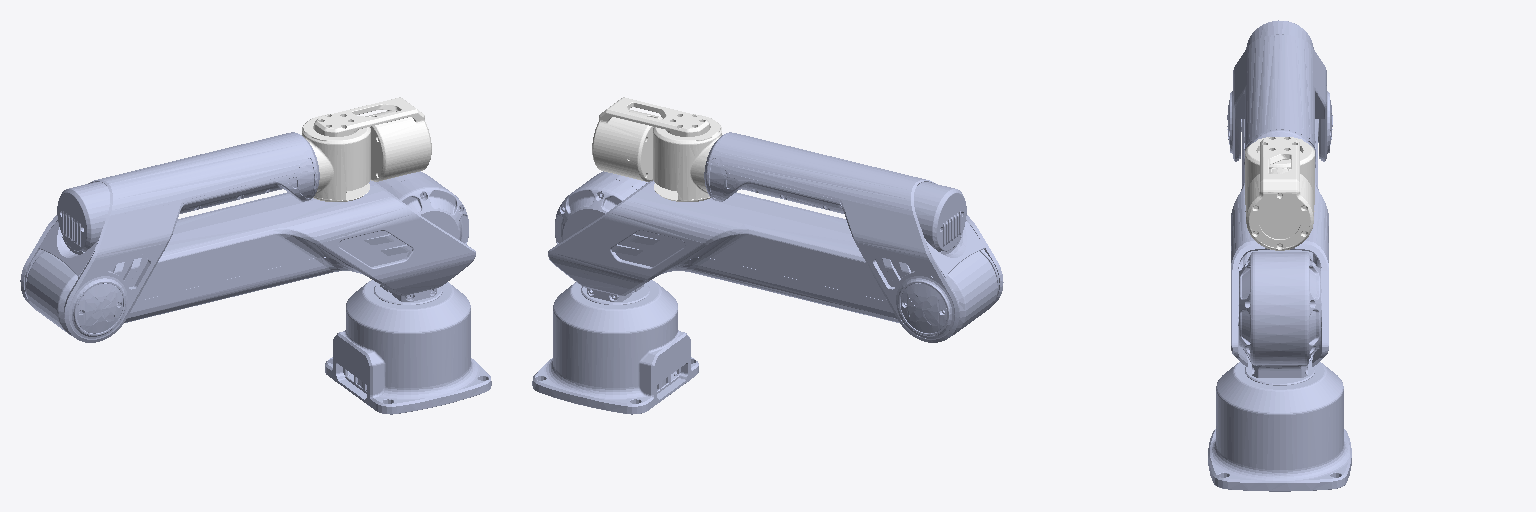
The robot description file, URDF, robot "A1_URDF_0607_0028":
<?xml version="1.0" encoding="utf-8"?>
<!-- This URDF was automatically created by SolidWorks to URDF Exporter! Originally created by [author] ([email redacted]) 
     Commit Version: 1.6.0-4-g7f85cfe  Build Version: 1.6.7995.38578
     For more information, please see http://wiki.ros.org/sw_urdf_exporter -->
<robot
  name="A1_URDF_0607_0028">
  <link
    name="base_link">
    <inertial>
      <origin
        xyz="-0.00056269 -4.1498E-06 0.038934"
        rpy="0 0 0" />
      <mass
        value="1.0" />
      <inertia
        ixx="0.0010597"
        ixy="1.6825E-07"
        ixz="1.9821E-05"
        iyy="0.0010647"
        iyz="1.9312E-07"
        izz="0.0011787" />
    </inertial>
    <visual>
      <origin
        xyz="0 0 0"
        rpy="0 0 0" />
      <geometry>
        <mesh
          filename="package://mobiman/urdf/A1/meshes/base_link.STL" />
      </geometry>
      <material
        name="">
        <color
          rgba="0.79216 0.81961 0.93333 1" />
      </material>
    </visual>
    <collision>
      <origin
        xyz="0 0 0"
        rpy="0 0 0" />
      <geometry>
        <mesh
          filename="package://mobiman/urdf/A1/meshes/base_link.STL" />
      </geometry>
    </collision>
  </link>
  <link
    name="arm_seg1">
    <inertial>
      <origin
        xyz="-1.4403E-06 -0.00074041 0.056573"
        rpy="0 0 0" />
      <mass
        value="1.391" />
      <inertia
        ixx="0.00058101"
        ixy="-7.5672E-09"
        ixz="-2.9207E-08"
        iyy="0.00070857"
        iyz="8.5639E-07"
        izz="0.00044583" />
    </inertial>
    <visual>
      <origin
        xyz="0 0 0"
        rpy="0 0 0" />
      <geometry>
        <mesh
          filename="package://mobiman/urdf/A1/meshes/arm_seg1.STL" />
      </geometry>
      <material
        name="">
        <color
          rgba="0.79216 0.81961 0.93333 1" />
      </material>
    </visual>
    <collision>
      <origin
        xyz="0 0 0"
        rpy="0 0 0" />
      <geometry>
        <mesh
          filename="package://mobiman/urdf/A1/meshes/arm_seg1.STL" />
      </geometry>
    </collision>
  </link>
  <joint
    name="arm_joint1"
    type="revolute">
    <origin
      xyz="-0.0011147 0 0.0892"
      rpy="0 0 3.1416" />
    <parent
      link="base_link" />
    <child
      link="arm_seg1" />
    <axis
      xyz="0 0 1" />
    <limit
      lower="-2.8798"
      upper="2.8798"
      effort="40"
      velocity="20.944" />
  </joint>
  <link
    name="arm_seg2">
    <inertial>
      <origin
        xyz="0.23622 0.016356 9.154E-05"
        rpy="0 0 0" />
      <mass
        value="1.3" />
      <inertia
        ixx="0.00060643"
        ixy="-0.00041827"
        ixz="0.00014951"
        iyy="0.0075939"
        iyz="8.093E-06"
        izz="0.0075715" />
    </inertial>
    <visual>
      <origin
        xyz="0 0 0"
        rpy="0 0 0" />
      <geometry>
        <mesh
          filename="package://mobiman/urdf/A1/meshes/arm_seg2.STL" />
      </geometry>
      <material
        name="">
        <color
          rgba="0.79216 0.81961 0.93333 1" />
      </material>
    </visual>
    <collision>
      <origin
        xyz="0 0 0"
        rpy="0 0 0" />
      <geometry>
        <mesh
          filename="package://mobiman/urdf/A1/meshes/arm_seg2.STL" />
      </geometry>
    </collision>
  </link>
  <joint
    name="arm_joint2"
    type="revolute">
    <origin
      xyz="0 -4E-05 0.0615"
      rpy="1.5708 0 0" />
    <parent
      link="arm_seg1" />
    <child
      link="arm_seg2" />
    <axis
      xyz="0 0 1" />
    <limit
      lower="0"
      upper="3.1415"
      effort="40"
      velocity="20.944" />
  </joint>
  <link
    name="arm_seg3">
    <inertial>
      <origin
        xyz="0.054443 0.045347 0.00042807"
        rpy="0 0 0" />
      <mass
        value="0.818" />
      <inertia
        ixx="0.0013904"
        ixy="-0.00022559"
        ixz="9.6874E-06"
        iyy="0.00059564"
        iyz="7.1658E-06"
        izz="0.0014962" />
    </inertial>
    <visual>
      <origin
        xyz="0 0 0"
        rpy="0 0 0" />
      <geometry>
        <mesh
          filename="package://mobiman/urdf/A1/meshes/arm_seg3.STL" />
      </geometry>
      <material
        name="">
        <color
          rgba="0.79216 0.81961 0.93333 1" />
      </material>
    </visual>
    <collision>
      <origin
        xyz="0 0 0"
        rpy="0 0 0" />
      <geometry>
        <mesh
          filename="package://mobiman/urdf/A1/meshes/arm_seg3.STL" />
      </geometry>
    </collision>
  </link>
  <joint
    name="arm_joint3"
    type="revolute">
    <origin
      xyz="0.34928 0.02 0"
      rpy="0 0 1.5708" />
    <parent
      link="arm_seg2" />
    <child
      link="arm_seg3" />
    <axis
      xyz="0 0 1" />
    <limit
      lower="-3.3161"
      upper="0"
      effort="27"
      velocity="7.5398" />
  </joint>
  <link
    name="arm_seg4">
    <inertial>
      <origin
        xyz="7.6256E-07 -0.0021448 0.27415"
        rpy="0 0 0" />
      <mass
        value="0.816" />
      <inertia
        ixx="9.7042E-05"
        ixy="-5.177E-09"
        ixz="-2.2681E-09"
        iyy="0.00010174"
        iyz="8.2528E-07"
        izz="8.4501E-05" />
    </inertial>
    <visual>
      <origin
        xyz="0 0 0"
        rpy="0 0 0" />
      <geometry>
        <mesh
          filename="package://mobiman/urdf/A1/meshes/arm_seg4.STL" />
      </geometry>
      <material
        name="">
        <color
          rgba="1 1 1 1" />
      </material>
    </visual>
    <collision>
      <origin
        xyz="0 0 0"
        rpy="0 0 0" />
      <geometry>
        <mesh
          filename="package://mobiman/urdf/A1/meshes/arm_seg4.STL" />
      </geometry>
    </collision>
  </link>
  <joint
    name="arm_joint4"
    type="revolute">
    <origin
      xyz="0.07 -0.00395 -4E-05"
      rpy="-1.5708 1.5708 0" />
    <parent
      link="arm_seg3" />
    <child
      link="arm_seg4" />
    <axis
      xyz="0 0 1" />
    <limit
      lower="-2.8798"
      upper="2.8798"
      effort="7"
      velocity="25.133" />
  </joint>
  <link
    name="arm_seg5">
    <inertial>
      <origin
        xyz="-3.9997E-06 -0.05431 0.0034482"
        rpy="0 0 0" />
      <mass
        value="0.801" />
      <inertia
        ixx="0.00011332"
        ixy="7.432E-08"
        ixz="1.368E-08"
        iyy="8.3999E-05"
        iyz="-1.6234E-05"
        izz="9.8497E-05" />
    </inertial>
    <visual>
      <origin
        xyz="0 0 0"
        rpy="0 0 0" />
      <geometry>
        <mesh
          filename="package://mobiman/urdf/A1/meshes/arm_seg5.STL" />
      </geometry>
      <material
        name="">
        <color
          rgba="1 1 1 1" />
      </material>
    </visual>
    <collision>
      <origin
        xyz="0 0 0"
        rpy="0 0 0" />
      <geometry>
        <mesh
          filename="package://mobiman/urdf/A1/meshes/arm_seg5.STL" />
      </geometry>
    </collision>
  </link>
  <joint
    name="arm_joint5"
    type="revolute">
    <origin
      xyz="0 0 0.2776"
      rpy="-1.5708 0 3.1416" />
    <parent
      link="arm_seg4" />
    <child
      link="arm_seg5" />
    <axis
      xyz="0 0 1" />
    <limit
      lower="-1.6581"
      upper="1.6581"
      effort="7"
      velocity="25.133" />
  </joint>
  <link
    name="arm_seg6">
    <inertial>
      <origin
        xyz="2.406E-06 -9.4582E-08 -0.038796"
        rpy="0 0 0" />
      <mass
        value="0.0001" />
      <inertia
        ixx="0.00011445"
        ixy="3.336E-10"
        ixz="1.4799E-08"
        iyy="0.00011239"
        iyz="-6.1057E-10"
        izz="7.4519E-05" />
    </inertial>
    <visual>
      <origin
        xyz="0 0 0"
        rpy="0 0 0" />
      <geometry>
        <cylinder radius="0.0001" length="0.0001" />
      </geometry>
      <material
        name="">
        <color
          rgba="0.79216 0.81961 0.93333 1" />
      </material>
    </visual>
    <collision>
      <origin
        xyz="0 0 0"
        rpy="0 0 0" />
      <geometry>
        <cylinder radius="0.0001" length="0.0001" />
      </geometry>
    </collision>
  </link>
  <joint
    name="arm_joint6"
    type="revolute">
    <origin
      xyz="0 -0.08 -0.00023266"
      rpy="1.5708 0 0" />
    <parent
      link="arm_seg5" />
    <child
      link="arm_seg6" />
    <axis
      xyz="0 0 1" />
    <limit
      lower="-2.8798"
      upper="2.8798"
      effort="7"
      velocity="25.133" />
  </joint>
</robot>

--- Render facts (derived) ---
3 views of the same robot in one strip: view 1: azimuth 30°, elevation 25°; view 2: azimuth 150°, elevation 25°; view 3: azimuth 270°, elevation 25° (orthographic).
Robot: A1_URDF_0607_0028 — 7 links, 6 joints (6 revolute); root link base_link; default pose: all joints at 0.
Visible links, largest first — view 1: arm_seg2, arm_seg3, base_link, arm_seg5, arm_seg4, arm_seg1; view 2: arm_seg2, arm_seg3, base_link, arm_seg5, arm_seg4, arm_seg1; view 3: base_link, arm_seg3, arm_seg1, arm_seg5, arm_seg2, arm_seg4.
Link boxes in pixels (x1,y1,x2,y2): arm_seg2: (26, 180, 475, 335); arm_seg3: (20, 132, 319, 342); base_link: (325, 280, 491, 414); arm_seg5: (314, 97, 431, 181); arm_seg4: (302, 114, 370, 201); arm_seg1: (374, 171, 468, 304); arm_seg2: (548, 180, 997, 335); arm_seg3: (704, 132, 1003, 342); base_link: (532, 280, 698, 414); arm_seg5: (592, 97, 709, 181); arm_seg4: (653, 114, 721, 201); arm_seg1: (555, 171, 649, 304); base_link: (1208, 358, 1351, 491); arm_seg3: (1227, 20, 1332, 167); arm_seg1: (1239, 252, 1320, 385); arm_seg5: (1246, 137, 1313, 250); arm_seg2: (1231, 119, 1328, 366); arm_seg4: (1245, 137, 1314, 211).
Size in the robot's own frame: 0.449 by 0.128 by 0.2775 metres.
Meshes: 6 distinct files referenced, 6 mesh visuals loaded (6 binary STL).